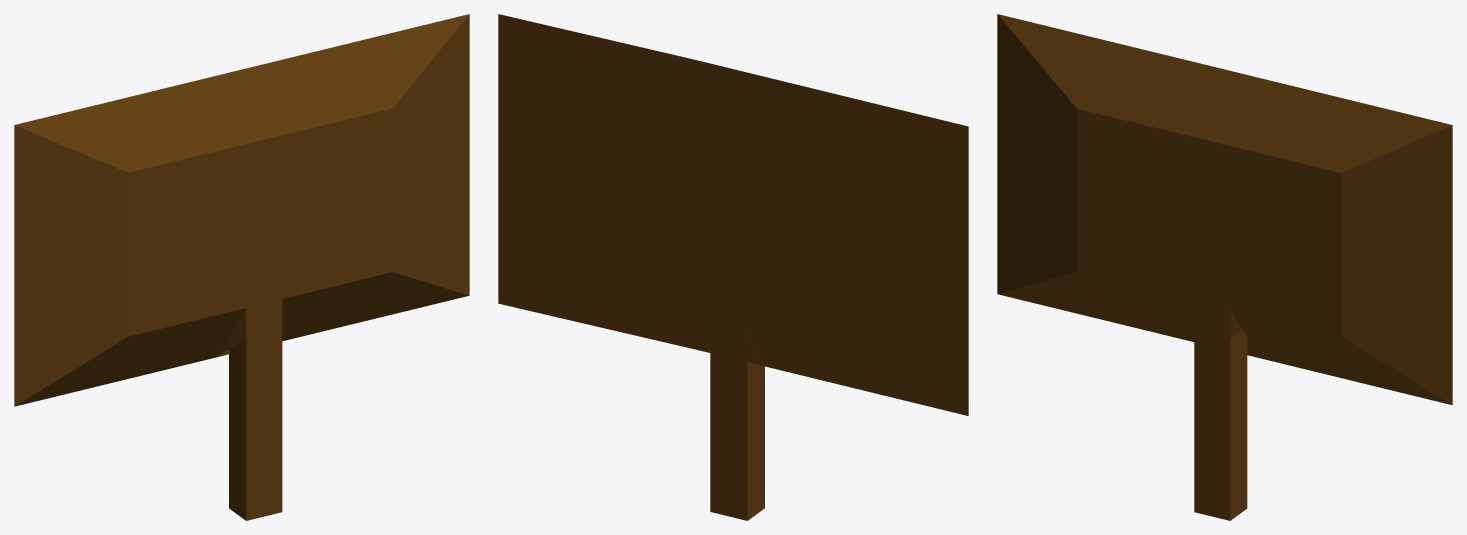
The model's file is kannbann.obj.
3 renders of one model, left to right at view 1: azimuth 30°, elevation 25°; view 2: azimuth 150°, elevation 25°; view 3: azimuth 330°, elevation 25°, orthographic. The views are drawn at different scales.
Parts seen in each view (by area): view 1: Cube; view 2: Cube; view 3: Cube.
Part boxes in pixels (x1,y1,x2,y2): Cube: (14, 14, 469, 520); Cube: (498, 14, 968, 520); Cube: (997, 14, 1452, 520).
Size of the model in its own units: 2.3 by 2.1 by 0.1573.
Materials: 1 (1 with a texture image).
